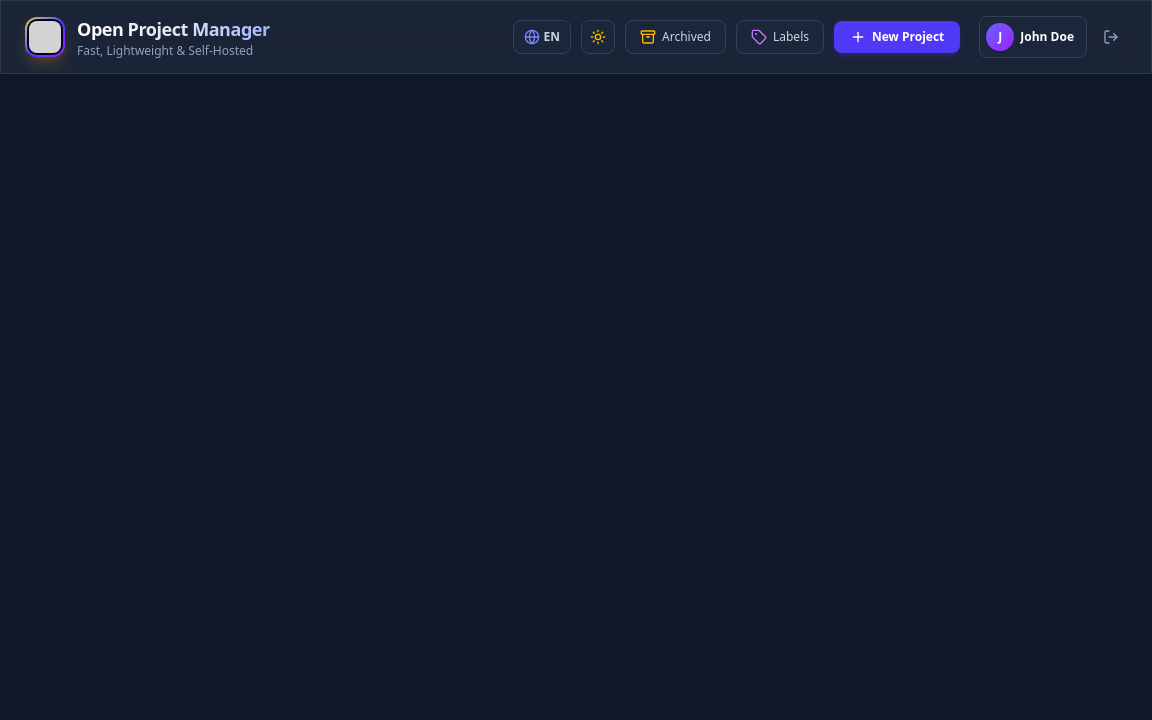
Test: Authentication & Header UI Components › opens UserProfileModal when clicking profile button in Header
What coordinates should you click on to do the following:
click the button titled "Profile Settings"
I would click on:
 (1033, 37)
Its box is [979,16,1087,58].
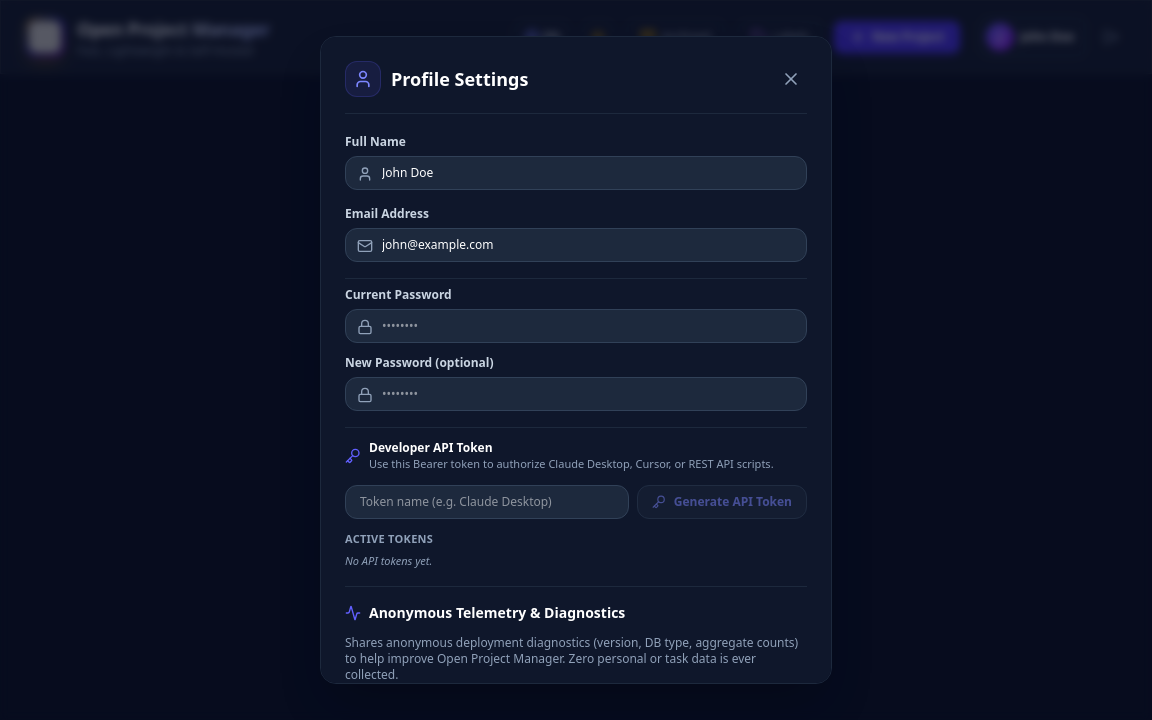
Expected: the field showing "John Doe" below "Full Name" is shown, [345,156,807,190]
Expected: the field showing "john@example.com" below "Email Address" is shown, [345,228,807,262]
Expected: the heading "Developer API Token" is shown, [369,439,493,456]
